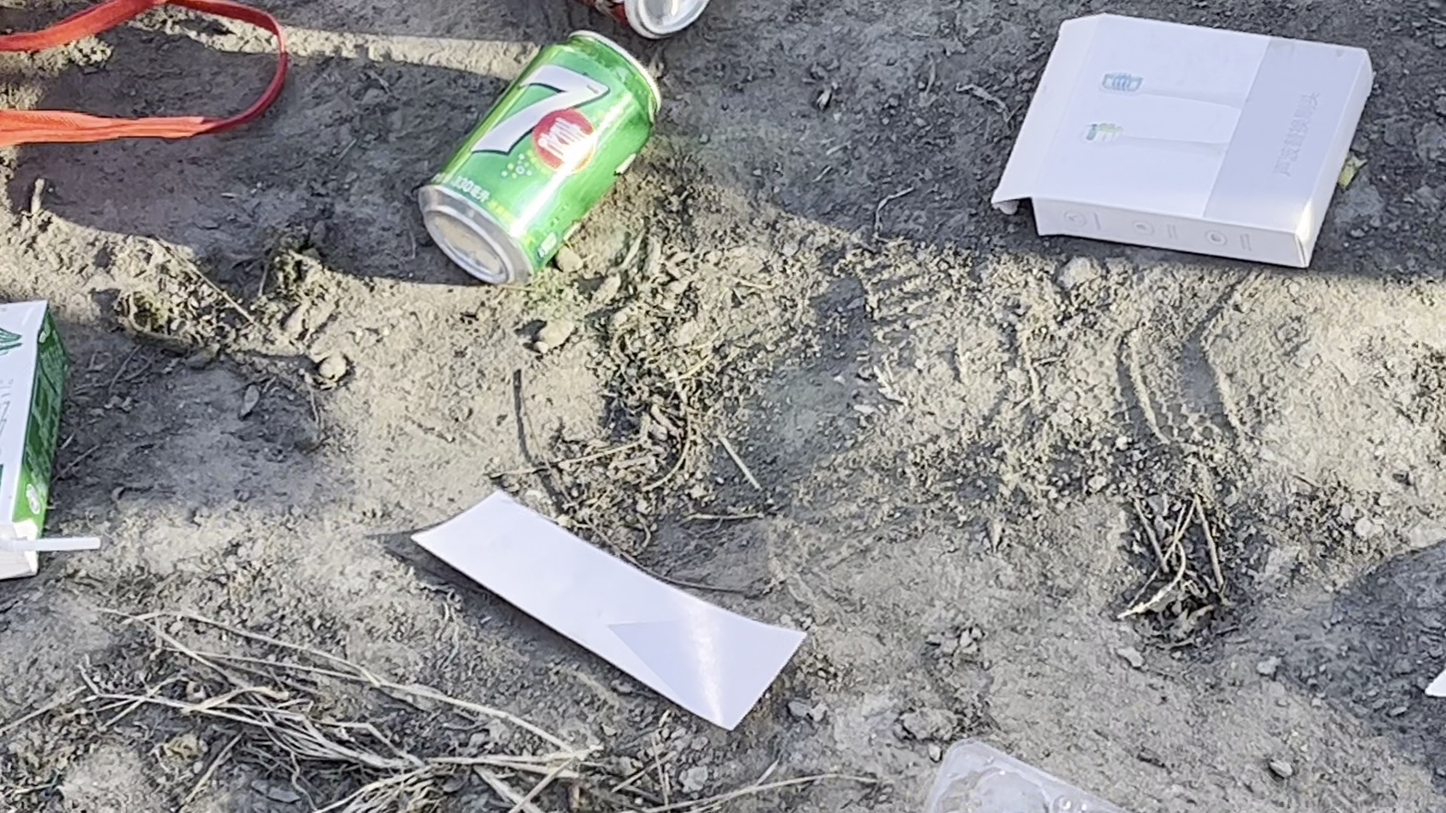floater: (410, 494, 810, 732), (998, 10, 1360, 263), (379, 37, 654, 269), (3, 297, 83, 576), (931, 740, 1079, 813)
